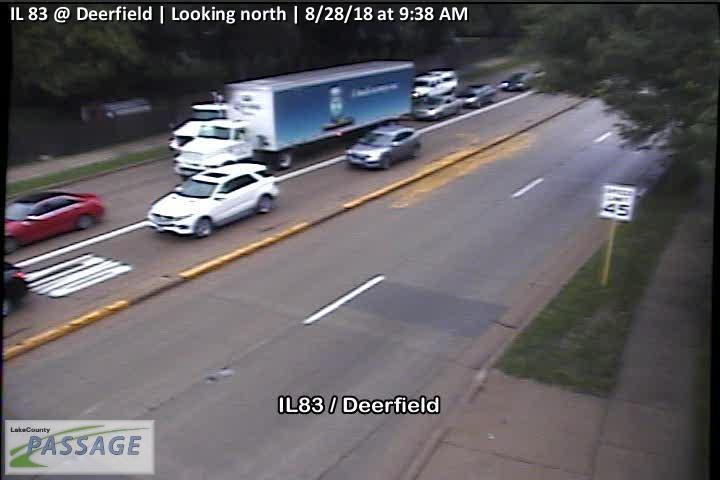SUV: (144, 162, 282, 238), (166, 102, 246, 155), (413, 69, 457, 100)
Sedan: (2, 189, 105, 254), (343, 125, 421, 172), (413, 93, 459, 123), (456, 83, 497, 110), (498, 72, 536, 92)
Truck: (172, 59, 416, 180)
